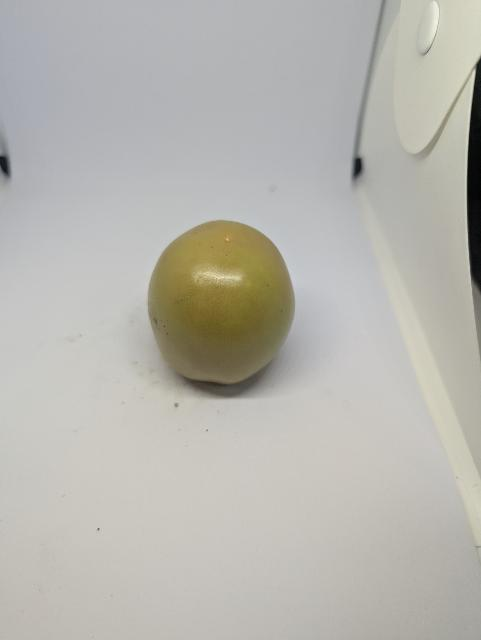breaker: (148, 221, 295, 384)
